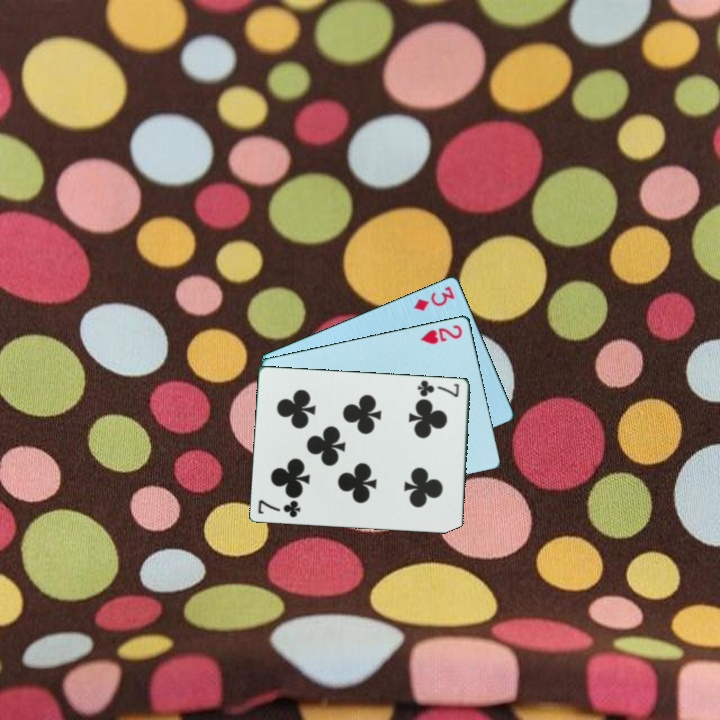2h: (417, 321, 465, 347)
3d: (409, 282, 458, 317)
7c: (414, 376, 462, 400), (255, 497, 304, 520)
